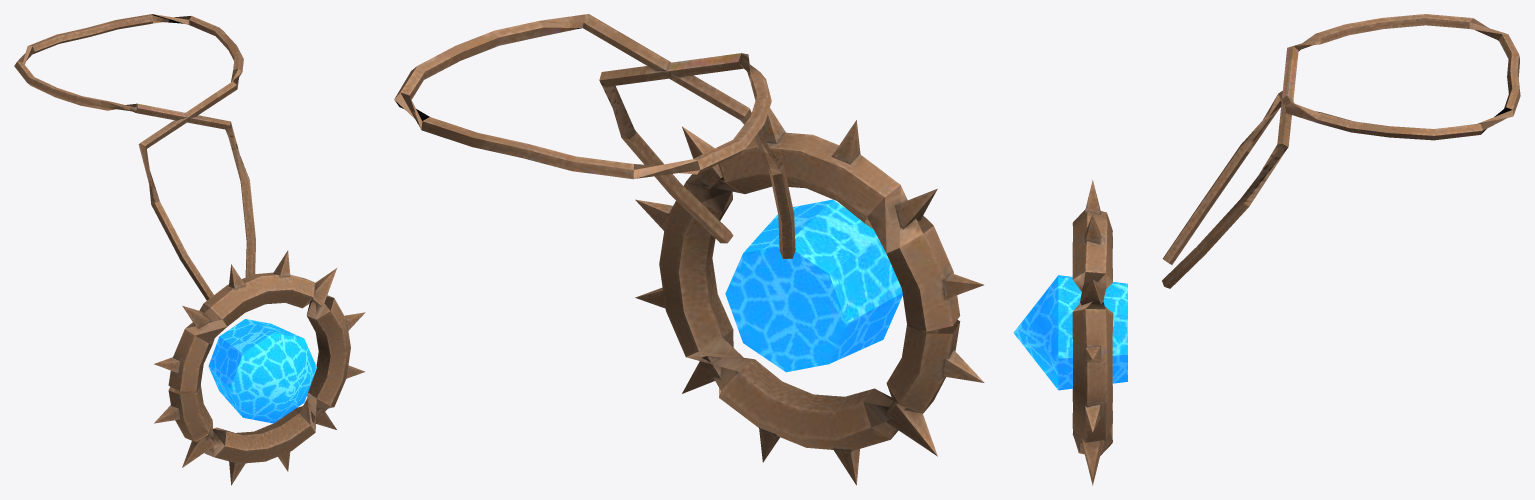
File: Amuleto_do_Astral_nivel100.glb
3 views of the same model, side by side, from view 1: azimuth 30°, elevation 25°; view 2: azimuth 150°, elevation 25°; view 3: azimuth 270°, elevation 25° (orthographic). The views are drawn at different scales.
Parts seen in each view (by area): view 1: amuleto_do_astral_nivel100; view 2: amuleto_do_astral_nivel100; view 3: amuleto_do_astral_nivel100.
Part boxes in pixels (x1,y1,x2,y2): amuleto_do_astral_nivel100: (14, 14, 365, 485); amuleto_do_astral_nivel100: (394, 14, 984, 485); amuleto_do_astral_nivel100: (1013, 14, 1520, 485).
Bounding box in the file's own units: 0.1688 × 0.2474 × 0.2849.
1 material, 1 textured.
